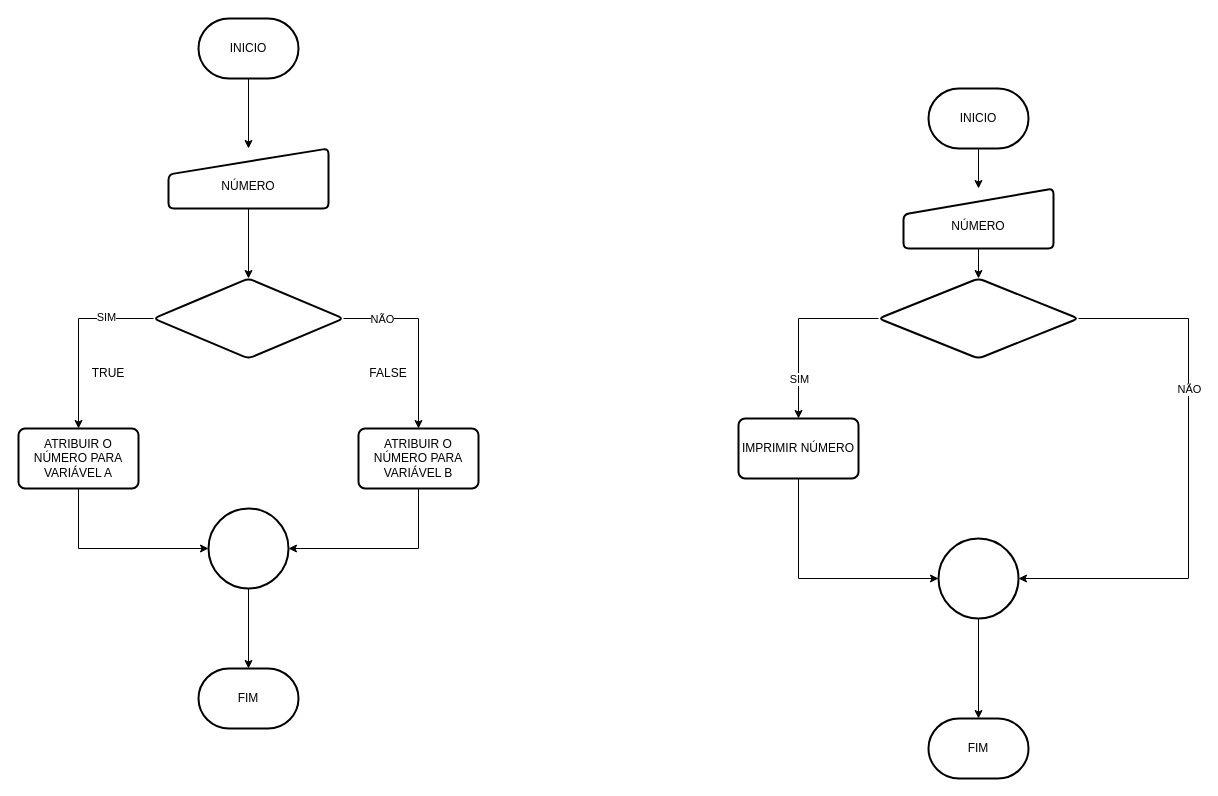
The diagram is 1218 pixels wide and 796 high, and some of its shapes have lost their labels. The shapes that lost their labels are listed below. From the top down, each one's centre as x and y in pixels, then its label:
At [248,318]: "É POSITIVO?".
At [978,318]: "É MAIOR QUE 100?".
